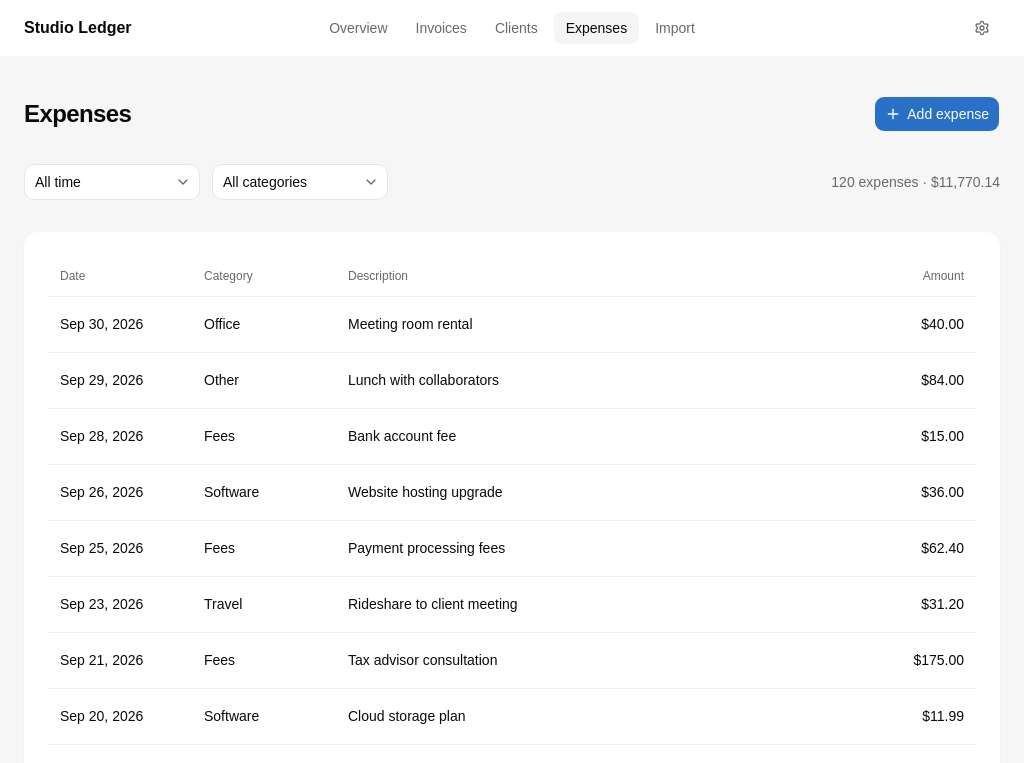
Test: Confirmation toasts (UX-4) › adding an expense confirms with a toast
The width and height of the screenshot is (1024, 763).
Click the button "Add expense" at x=937, y=114, box [874,96,1000,132]
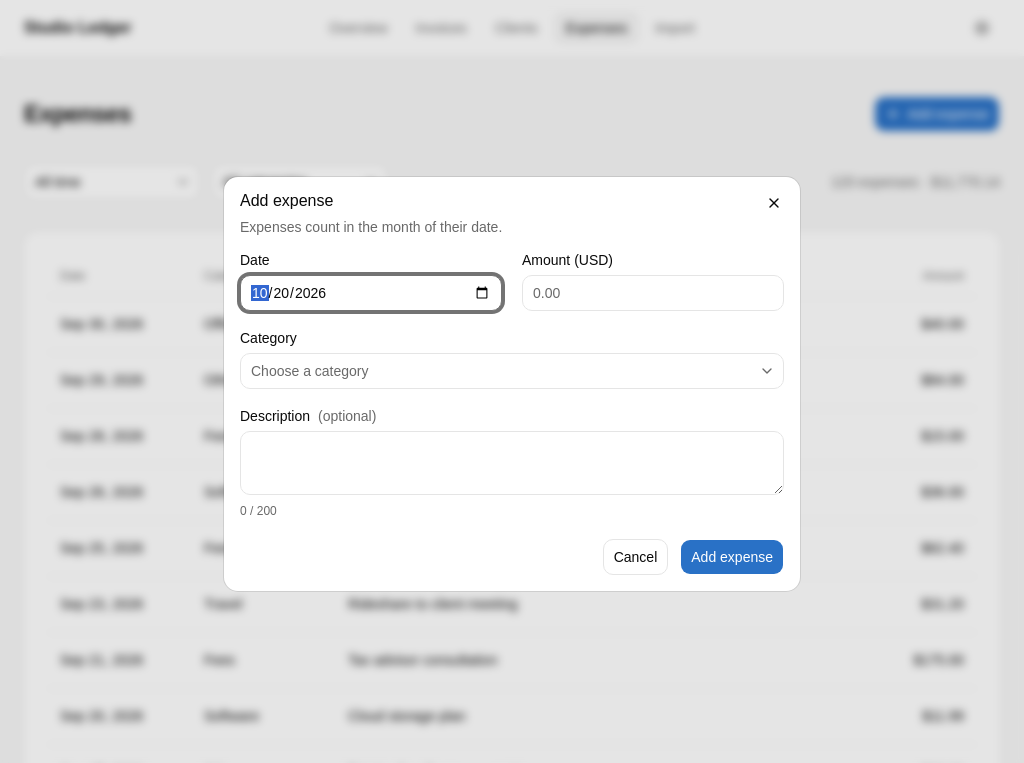
Type "12" into the field labelled "Amount (USD)" at x=653, y=293, box [522,275,784,311]
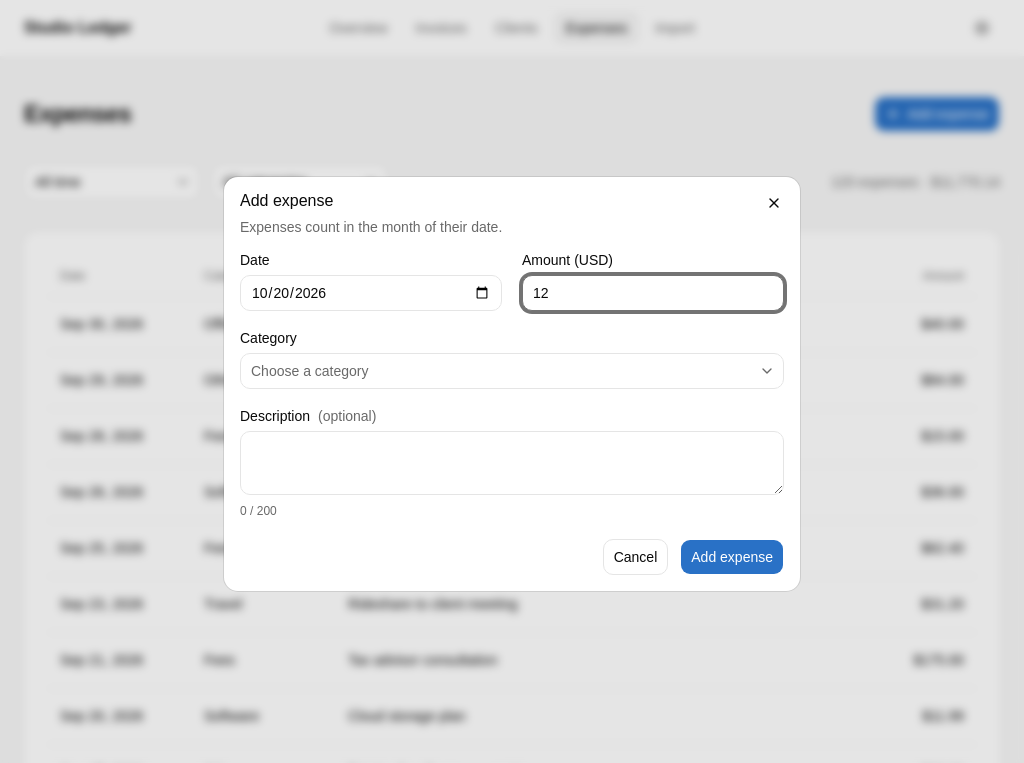
Click the dropdown labelled "category" at x=310, y=371, box [240,353,784,389]
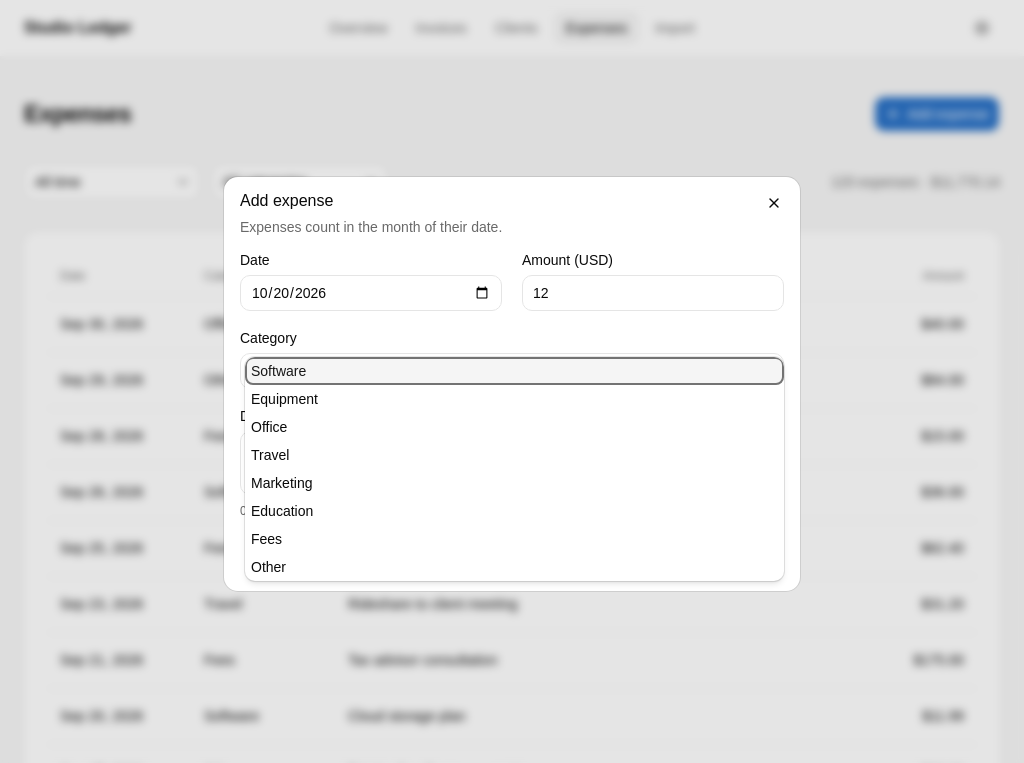
Click the option "Office" at x=269, y=427, box [251,419,287,435]
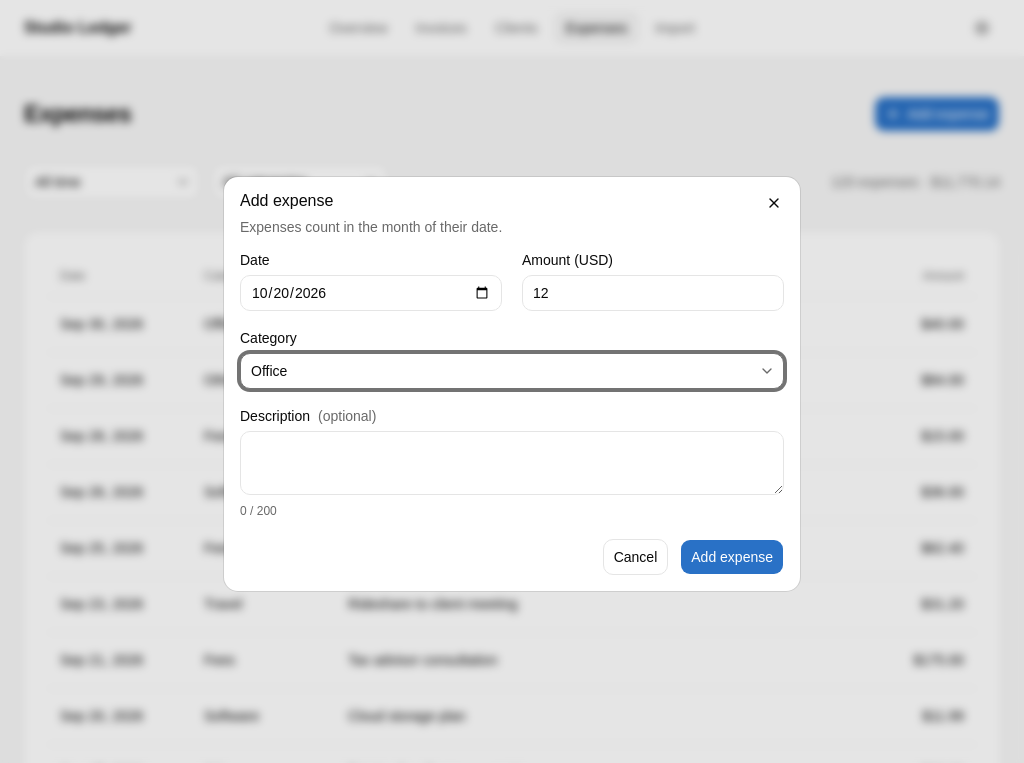
Click the button "Add expense" at x=732, y=557, box [680,539,784,575]
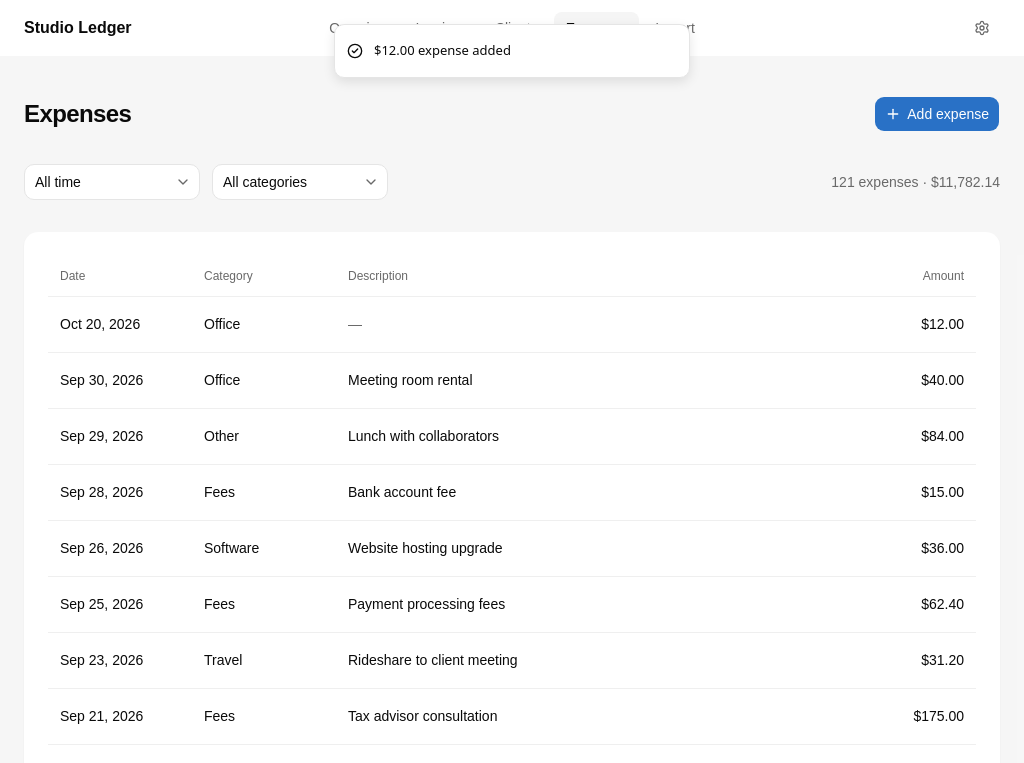
Expected: the text "$12.00 expense added" is shown, [374,41,511,60]
